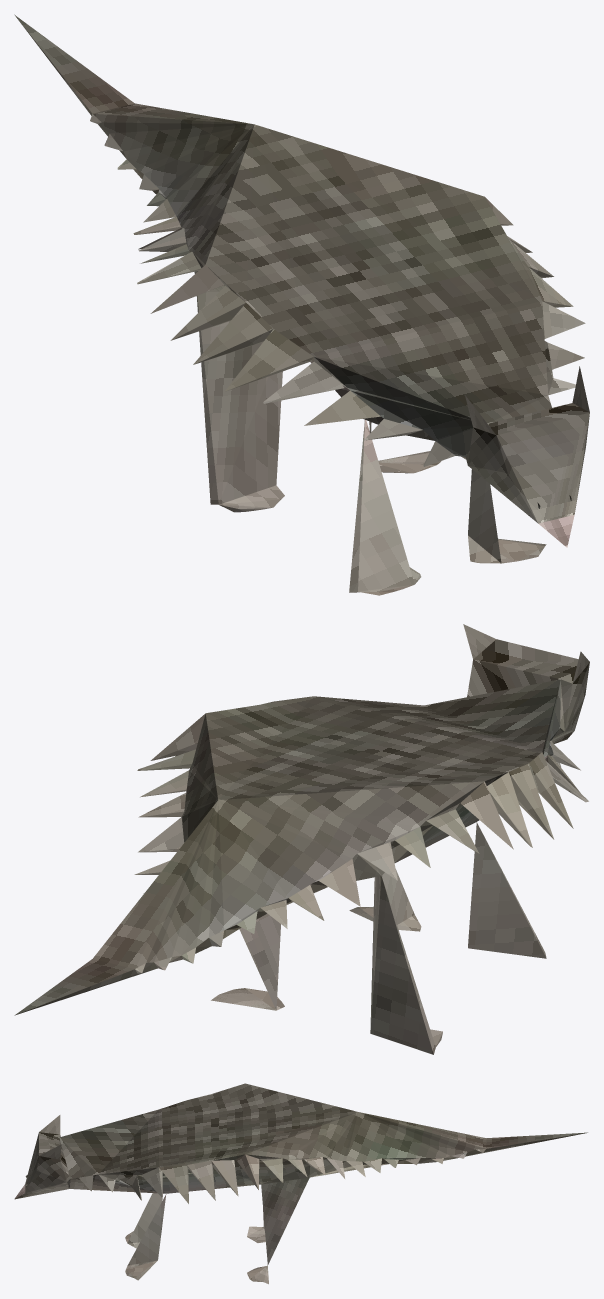
The picture shows the model from 3 angles, top to bottom: view 1: azimuth 30°, elevation 25°; view 2: azimuth 150°, elevation 25°; view 3: azimuth 270°, elevation 25°; orthographic projection. The views are drawn at different scales.
Parts seen in each view (by area): view 1: Object_7; view 2: Object_7; view 3: Object_7.
Part boxes in pixels (x1,y1,x2,y2): Object_7: (14,14,589,595); Object_7: (14,624,589,1054); Object_7: (14,1083,587,1284).
Bounding box in the file's own units: 18.08 × 13.57 × 47.6.
Materials: 1 (1 with a texture image).
